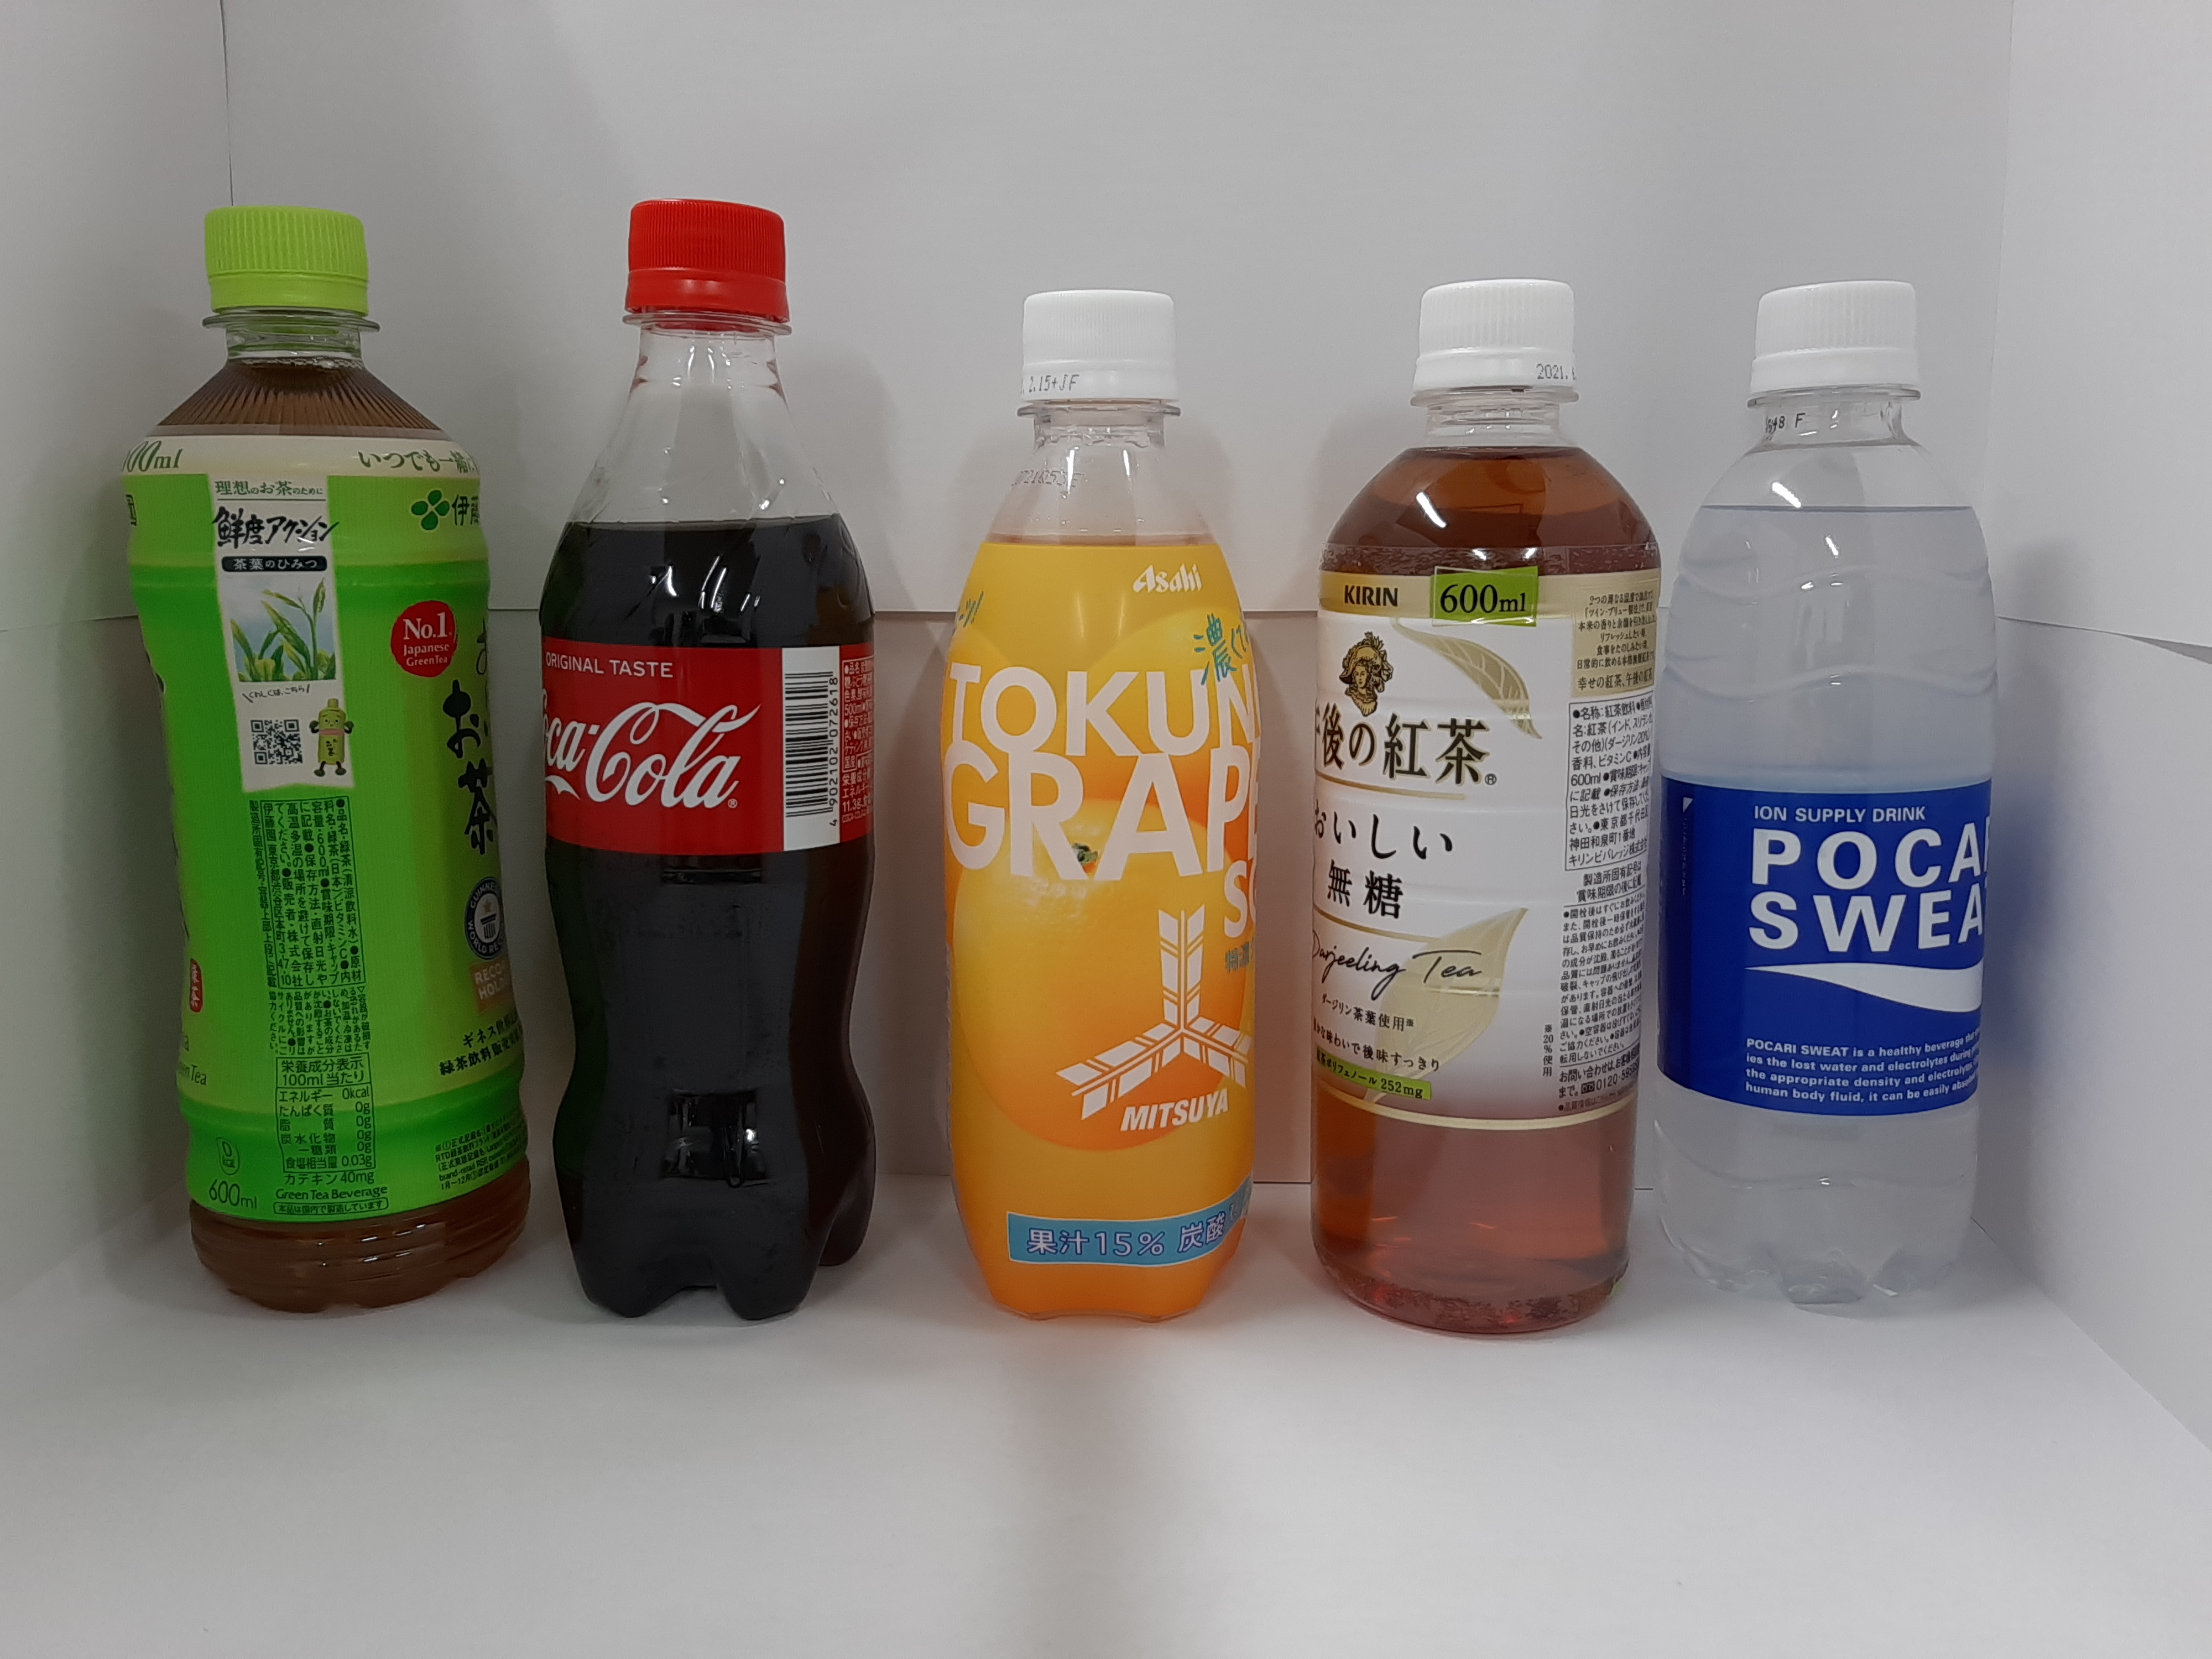おーいお茶: (87, 179, 543, 1352)
グレープフルーツスカッシュ: (920, 251, 1285, 1352)
コーラ: (531, 173, 899, 1361)
ポカリスエット: (1656, 256, 2020, 1342)
午後の紅茶: (1289, 265, 1669, 1363)
